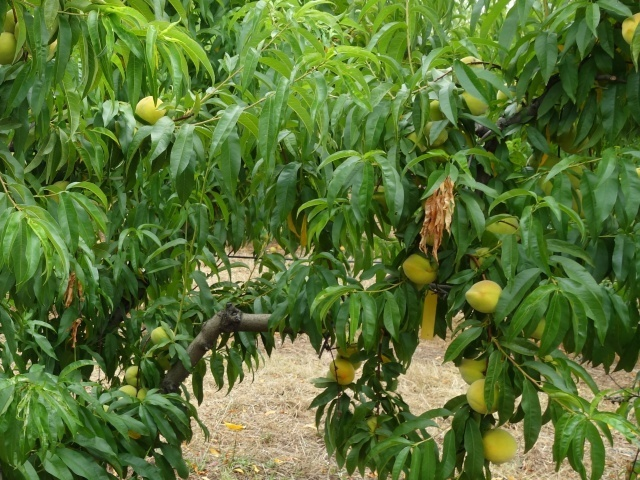peach: (461, 274, 507, 317), (482, 423, 522, 466), (466, 375, 502, 420), (401, 248, 439, 289), (457, 348, 493, 387), (131, 92, 169, 128), (613, 2, 639, 51), (330, 335, 362, 365), (327, 357, 356, 390), (149, 322, 177, 353), (7, 18, 33, 50), (123, 363, 147, 391), (117, 379, 140, 404)
